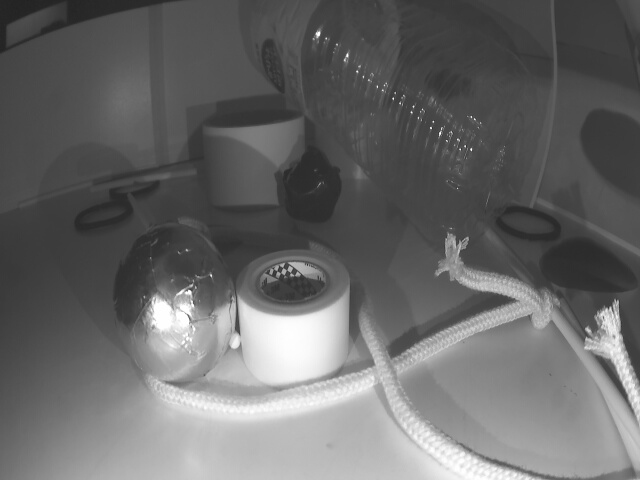Dead: (281, 150, 344, 219)
Live: (113, 230, 240, 384)
